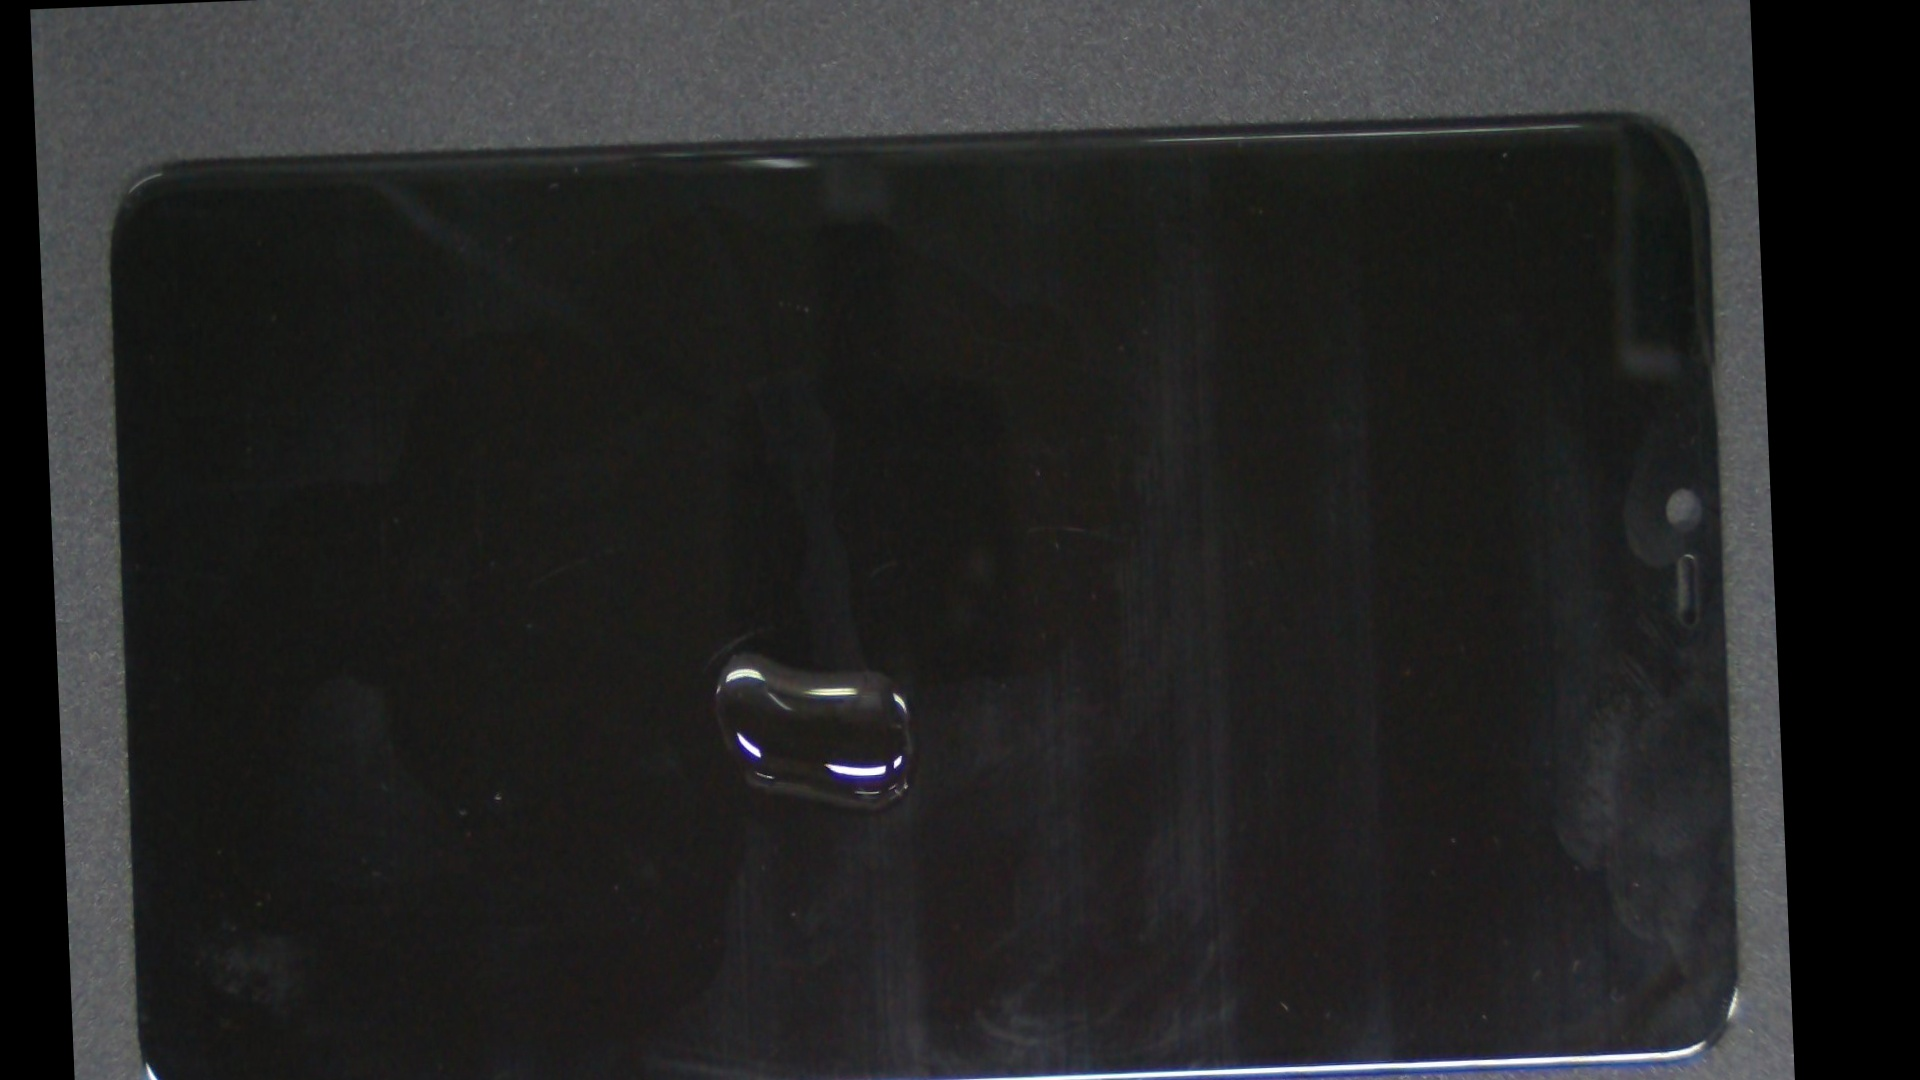oil: (386, 301, 1095, 1000)
